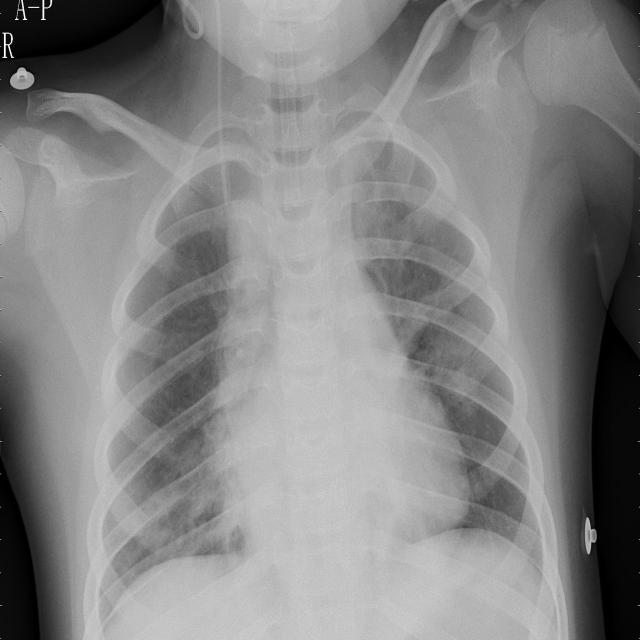low-pneumonia: (348, 147, 415, 279), (196, 395, 250, 542)
